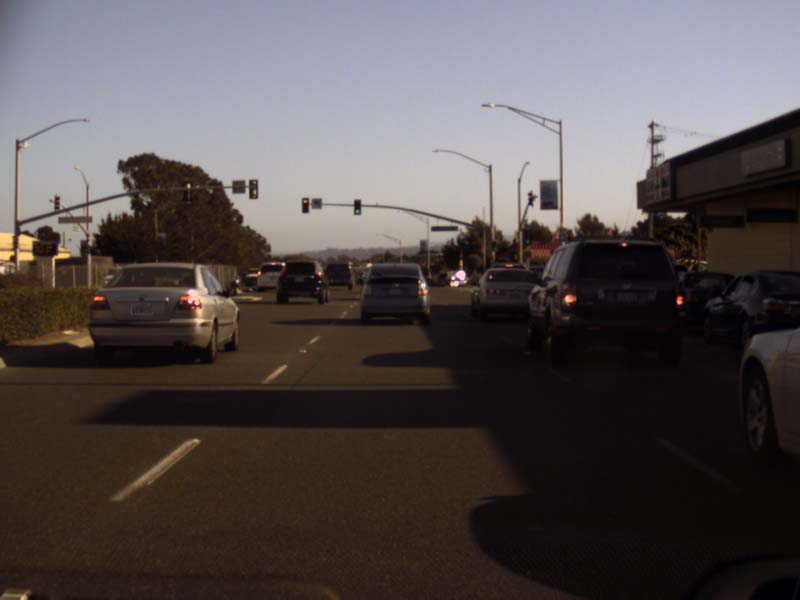Green: (524, 229, 532, 244), (353, 199, 360, 214)
Red: (301, 198, 308, 213)
